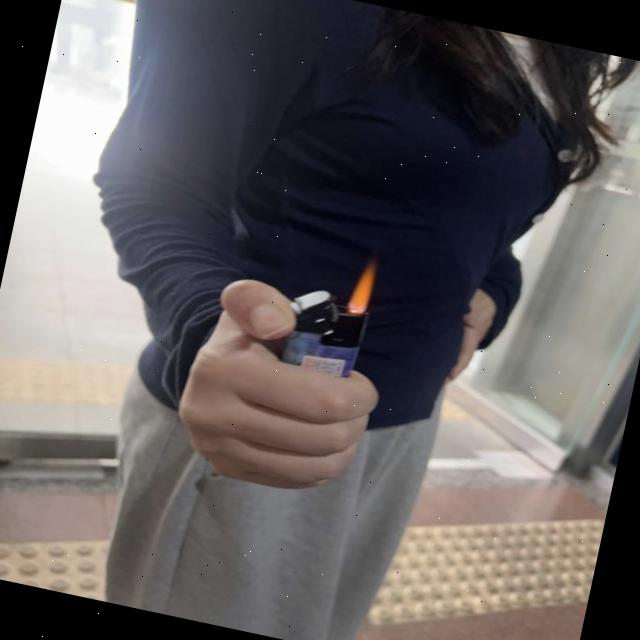fire: (346, 262, 379, 316)
